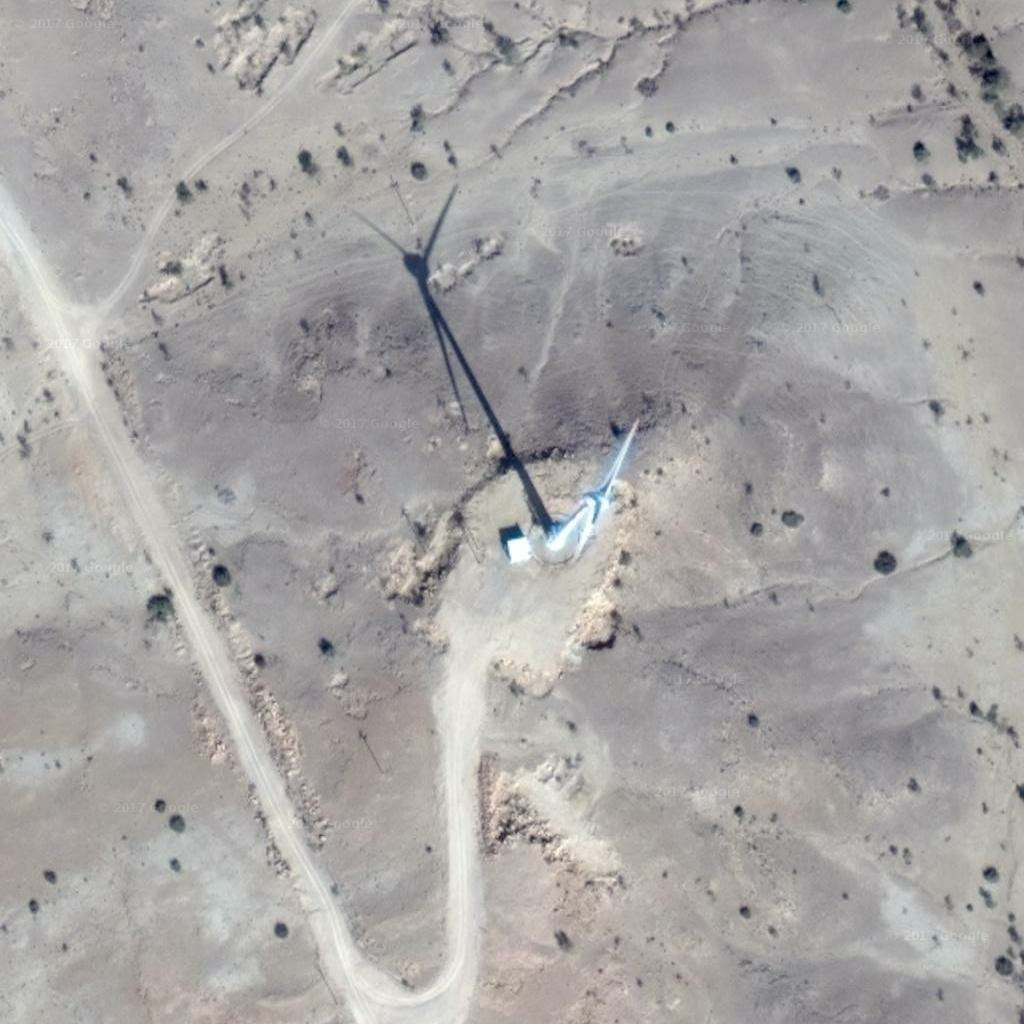Windmill: (342, 183, 570, 526)
